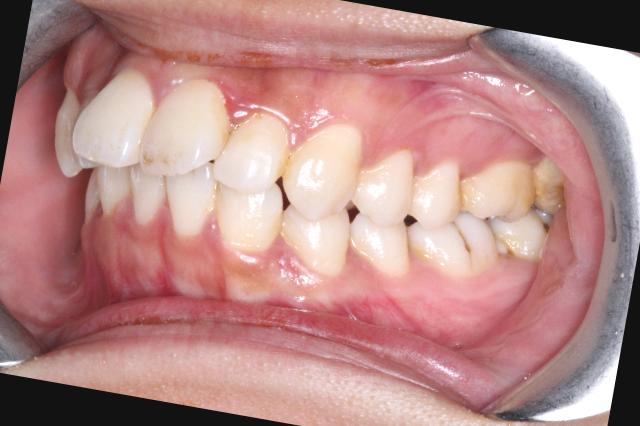canine class III 1/2: (205, 99, 374, 284)
molar class III 1/2: (398, 142, 540, 306)
